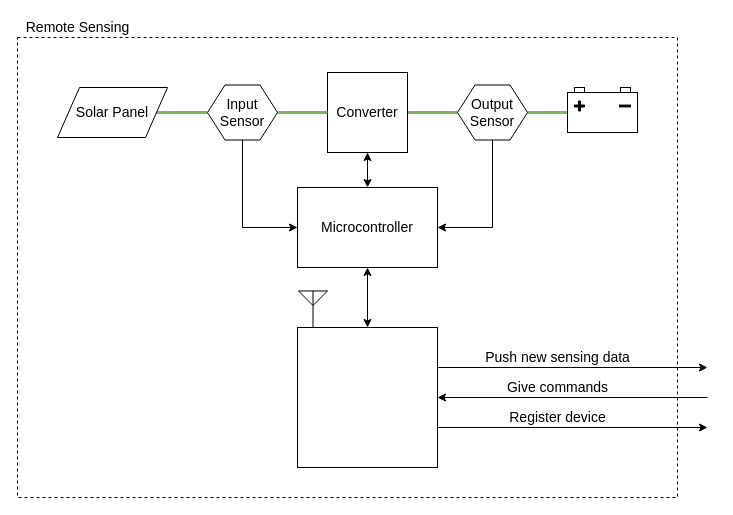
Image size: 733x515. Some labels were removed from this diagram. Each missing label, with the centre of its shape:
Battery: [602,112]
LTE Modem: [367,397]
